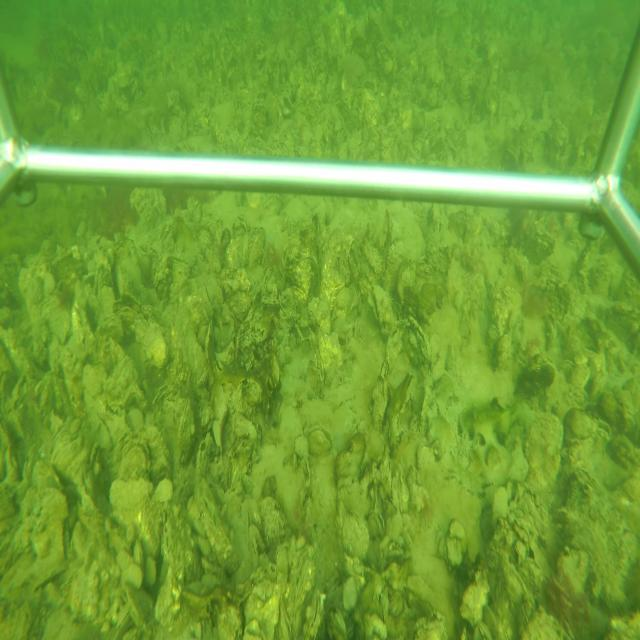Oyster-Closed: (387, 317, 429, 386), (391, 374, 415, 444), (177, 396, 194, 466), (305, 587, 325, 637), (381, 208, 393, 252), (204, 319, 212, 363)
Oyster-Indeterminate: (108, 474, 152, 523), (245, 225, 266, 267)
